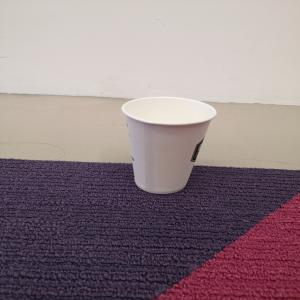Cup: (122, 97, 219, 196)
